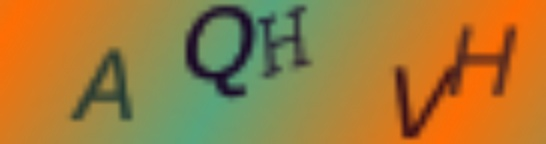A: (65, 44, 135, 124)
H: (445, 20, 526, 102), (253, 4, 316, 82)
Q: (179, 3, 256, 101)
V: (391, 63, 464, 141)
